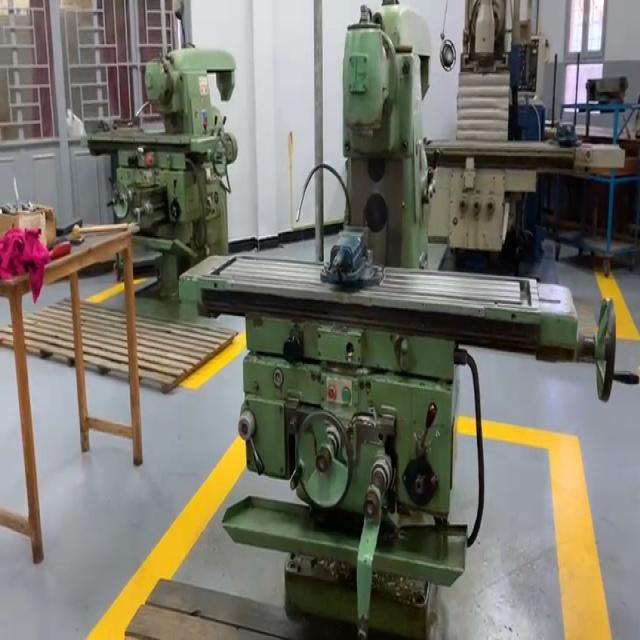fraiseuse: (179, 4, 615, 636)
